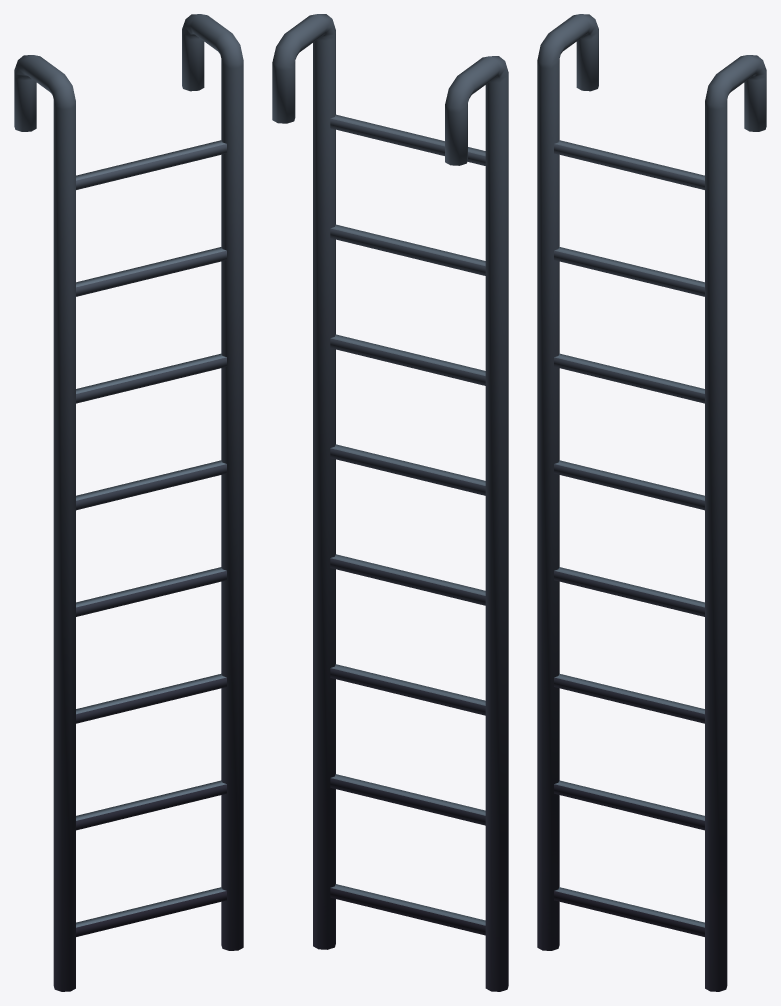
File: sp_build_prop_ladder.fbx
3 renders of one model, left to right at view 1: azimuth 30°, elevation 25°; view 2: azimuth 150°, elevation 25°; view 3: azimuth 330°, elevation 25°, orthographic. The views are drawn at different scales.
Parts seen in each view (by area): view 1: build_prop_ladder; view 2: build_prop_ladder; view 3: build_prop_ladder.
Boxes of the visible parts, left/top/right/bottom form: build_prop_ladder: left=14, top=14, right=243, bottom=991; build_prop_ladder: left=272, top=14, right=508, bottom=991; build_prop_ladder: left=537, top=14, right=766, bottom=991.
Size of the model in its own units: 68.85 by 319 by 32.44.
